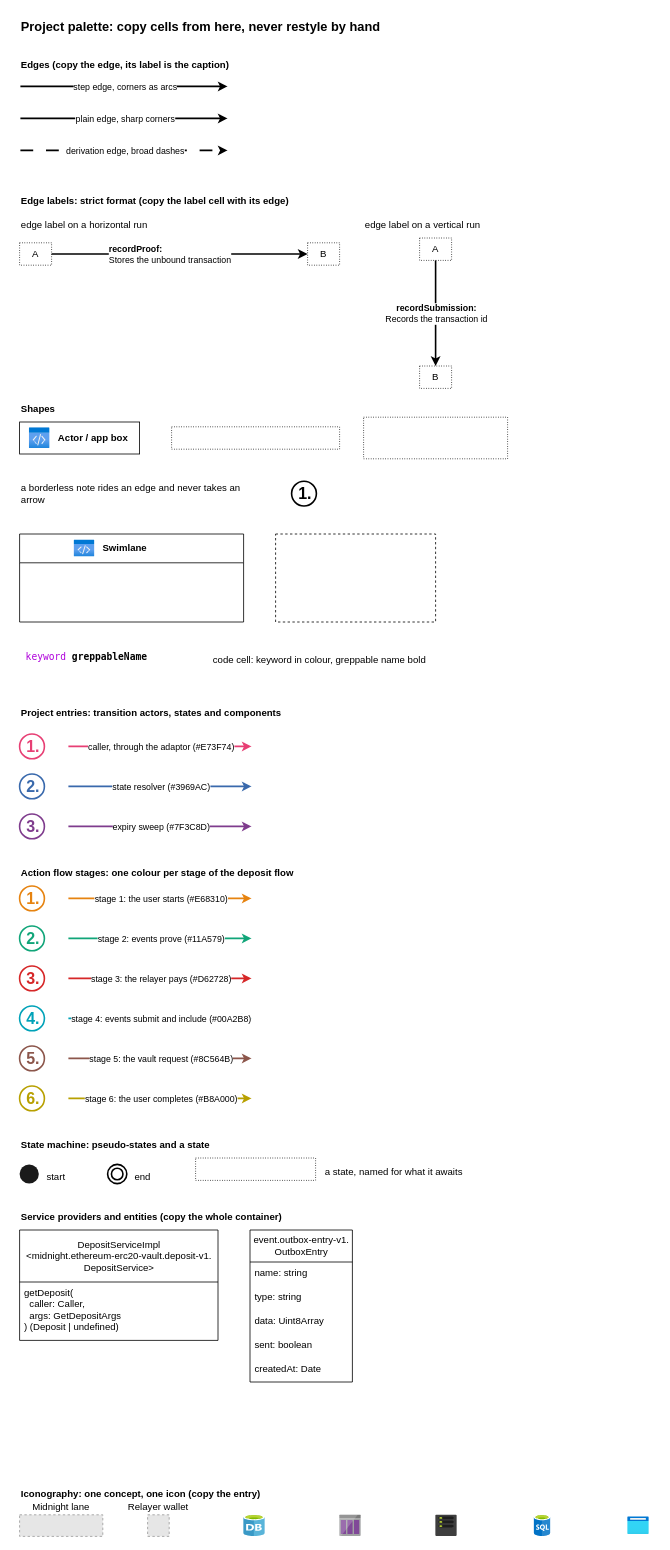
This 670x1550 diagram has some shape labels left out. Grey dashed boxes stand in for pictures. Here are the shapes that lost their labels. From the top down, the centre of each, then its label:
At [255,437]: "node box, hugging its text".
At [435,437]: "Keyword: the object With: the instrument".
At [355,577]: "actor cluster (dashed, no fill)".
At [255,1168]: "AwaitingProof".
At [254,1525]: "Postgres".
At [350,1525]: "Kafka".
At [446,1525]: "Proof server".
At [542,1525]: "Indexer".
At [638,1525]: "Browser".
